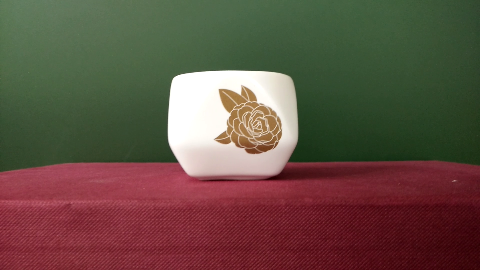flower: (211, 79, 284, 157)
